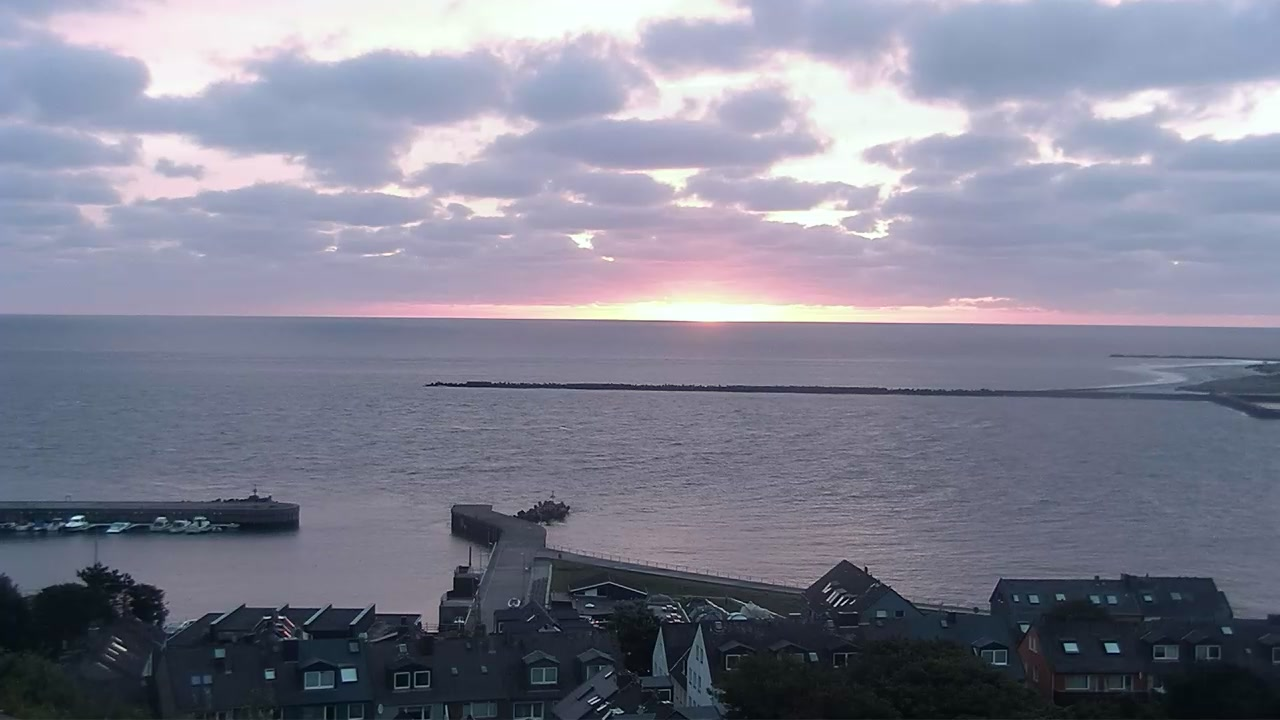sea: (185, 516, 211, 534), (65, 515, 88, 531), (167, 518, 191, 532), (106, 521, 131, 534), (149, 516, 169, 532), (47, 518, 65, 532), (15, 520, 35, 531), (32, 520, 49, 532), (507, 596, 521, 608)
